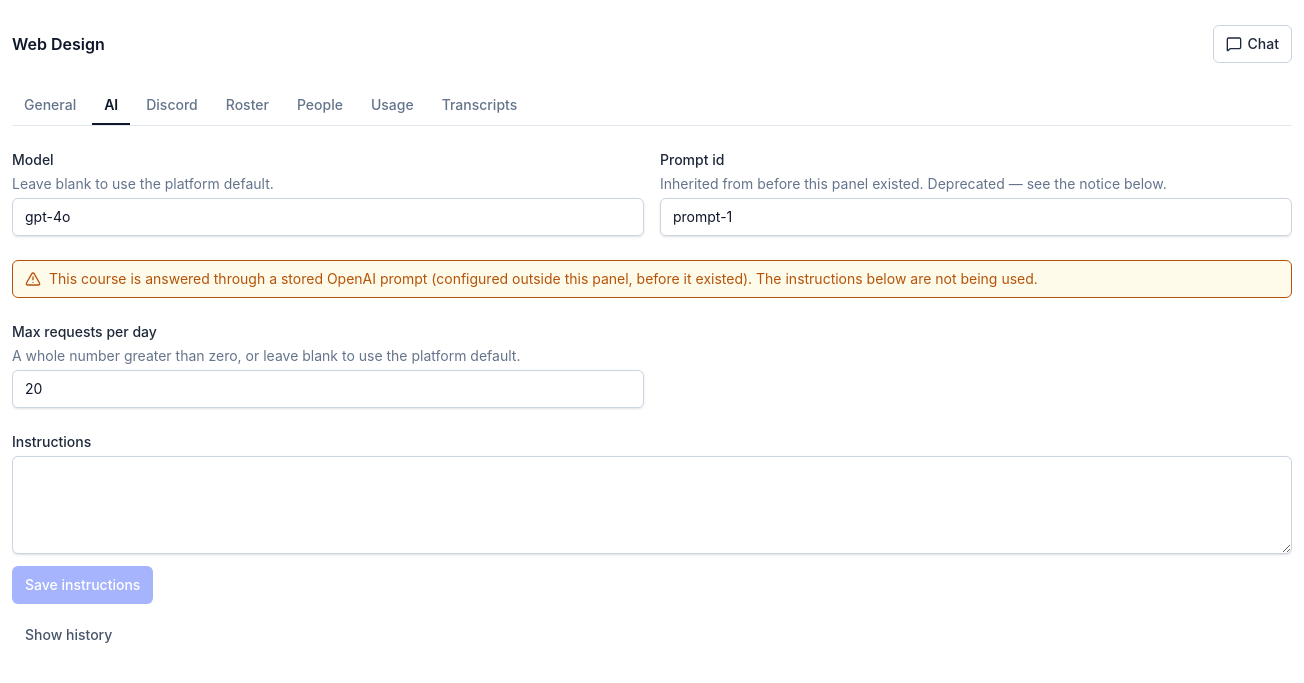
Test: CourseEditor Save button reflects dirtiness (WEB-43) › an edit on the Instructions tab, via the dirty bridge, also enables it
Type "Cite the syllabus." into the text box labelled "Instructions" at (652, 505), box top-left (12, 456), bottom-right (1292, 554)
(page scrolled)
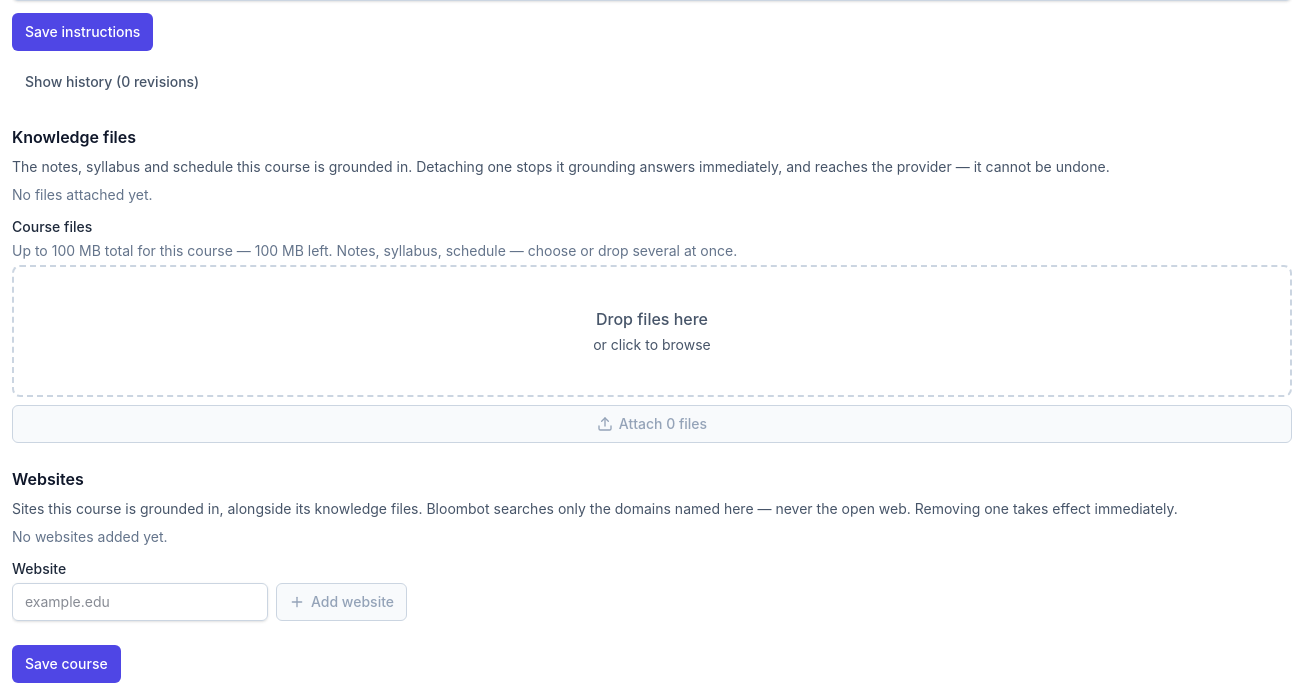
Check: the button "Save course" is enabled, box top-left (12, 645), bottom-right (121, 682)
